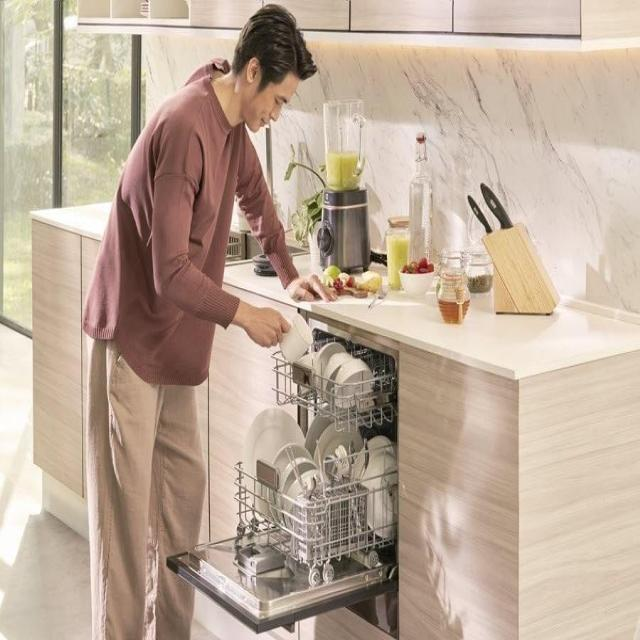dishwasher: (196, 322, 400, 628)
